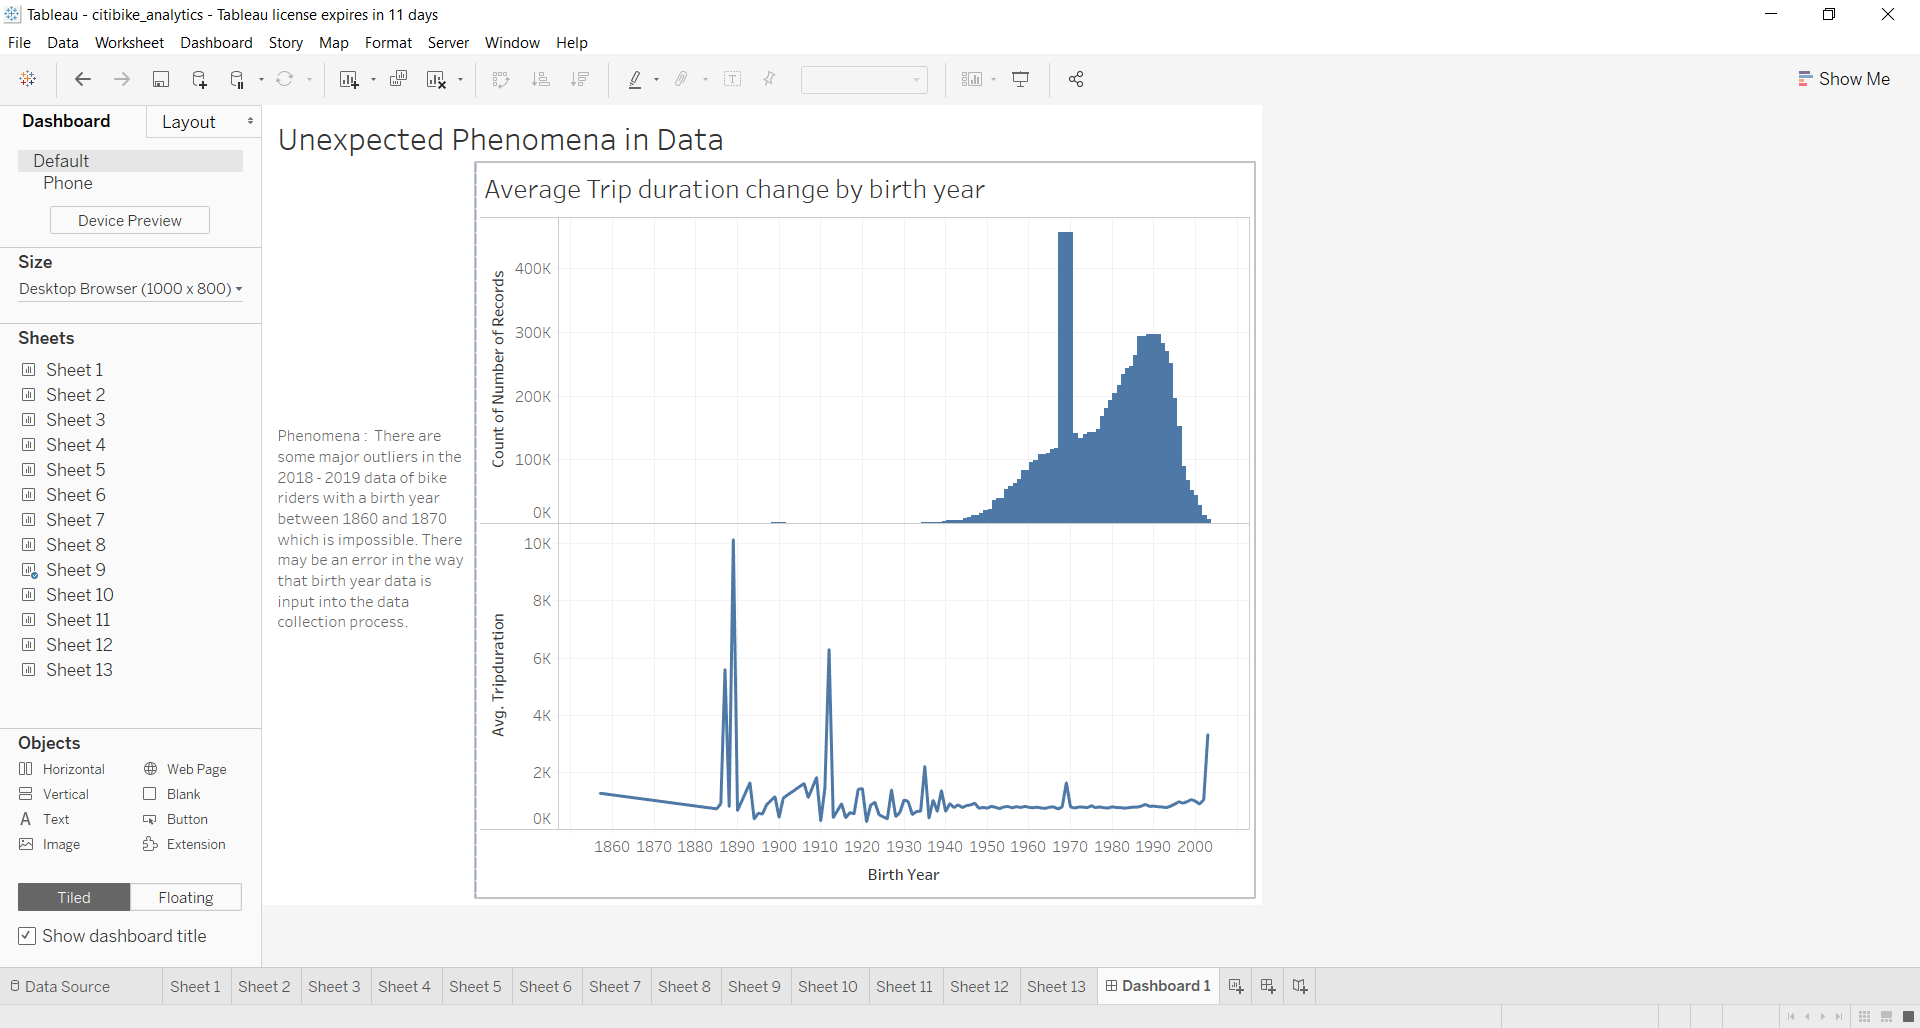

This screenshot's page, from the dashboard's own definition file:
{"tool":"tableau","page":{"name":"Dashboard 1","canvas":[1000,800],"ordinal":0},"visuals":[{"type":"title","box":[8,8,984,50]},{"type":"text","box":[8,58,206,734]},{"type":"worksheet","title":"Sheet 9","mark":"Automatic","rows":["Number of Records","tripduration"],"cols":["birth year"],"box":[214,58,778,734]}]}

Visuals, with their boxes on the page's 1000x800 design canvas (x1, y1, x2, y2). These are canvas units, not pixel positions in the 1920x1028 screenshot, which may show the page scaled, cropped or inside an application window:
title: x1=8 y1=8 x2=992 y2=58
text: x1=8 y1=58 x2=214 y2=792
"Sheet 9" worksheet: x1=214 y1=58 x2=992 y2=792
